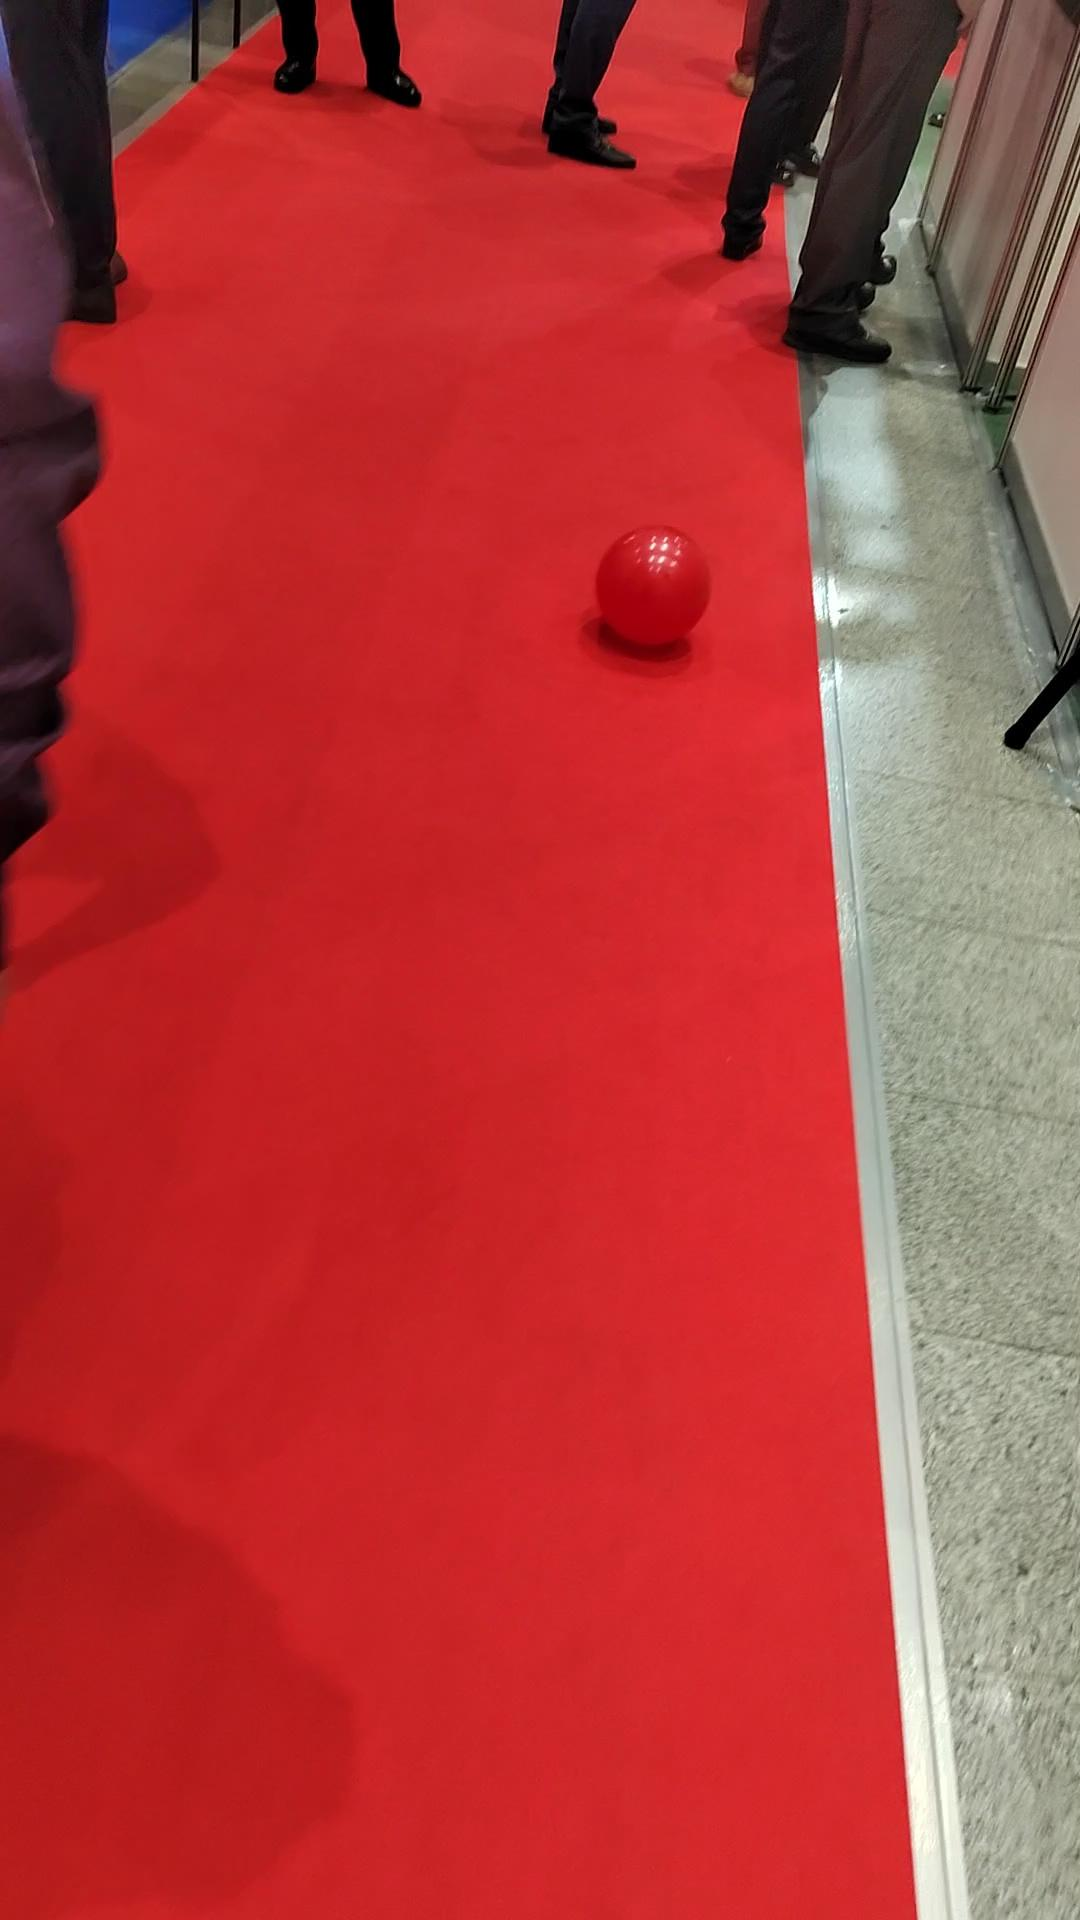red: (594, 526, 712, 648)
